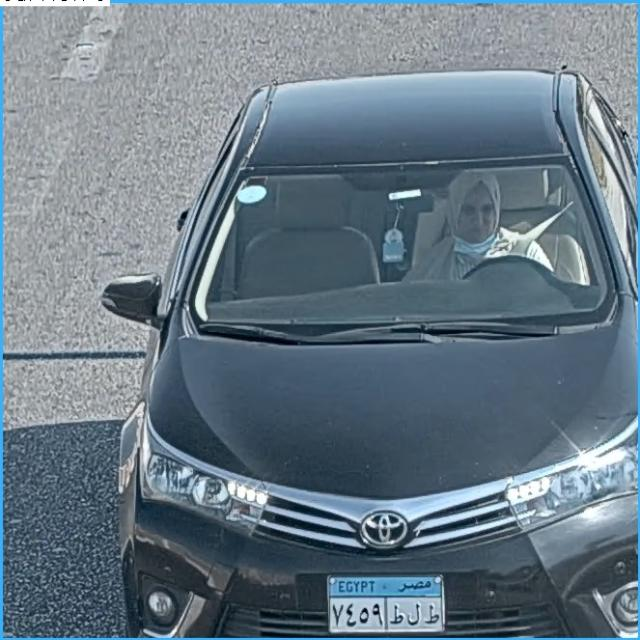windshield: (204, 156, 610, 315)
